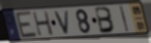8: (75, 8, 92, 35)
B: (94, 6, 117, 35)
E: (14, 10, 39, 40)
H: (31, 10, 55, 37)
I: (119, 5, 130, 34)
V: (53, 9, 71, 36)
